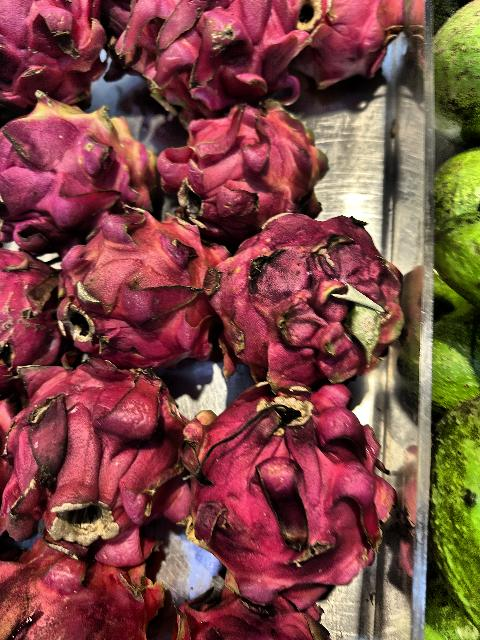buah-naga-belum-matang: (53, 214, 226, 372), (160, 98, 330, 230), (0, 102, 158, 240)
buah-naga-matang: (168, 368, 402, 592), (200, 212, 406, 382), (2, 358, 176, 556), (108, 0, 296, 108), (4, 542, 172, 640), (1, 0, 100, 110), (297, 0, 405, 84)
